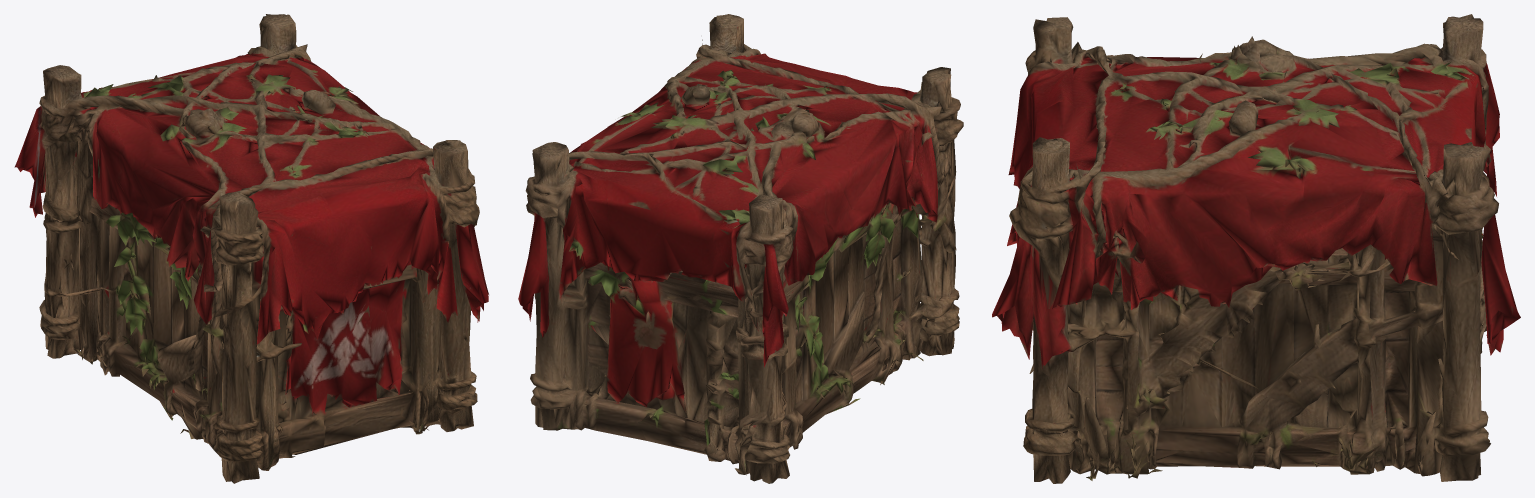
The model's file is AirdropCrate.glb.
3 renders of one model, left to right at view 1: azimuth 30°, elevation 25°; view 2: azimuth 150°, elevation 25°; view 3: azimuth 270°, elevation 25°, orthographic. The views are drawn at different scales.
Parts seen in each view (by area): view 1: output_unwrapped; view 2: output_unwrapped; view 3: output_unwrapped.
Boxes of the visible parts, box(x1,y1,x2,y2) form: output_unwrapped: box(14, 14, 488, 483); output_unwrapped: box(518, 14, 963, 483); output_unwrapped: box(992, 14, 1520, 483).
Size of the model in its own units: 1.39 by 1.39 by 1.92.
Materials: 1 (1 with a texture image).
